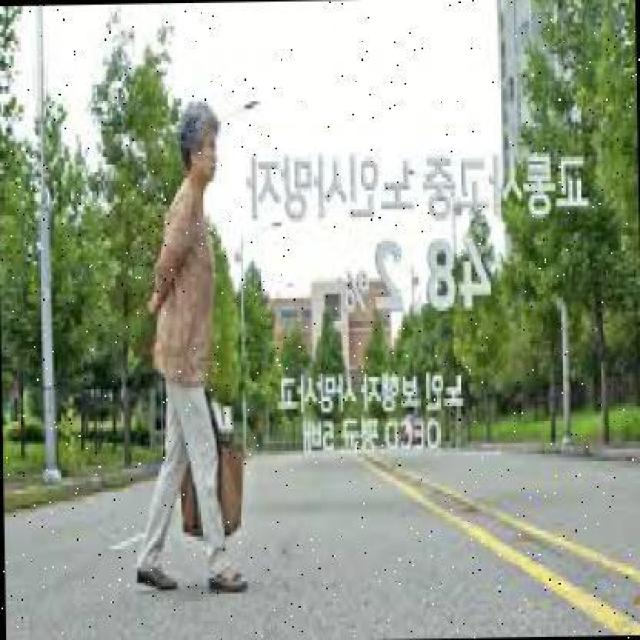-: (130, 103, 238, 592)
